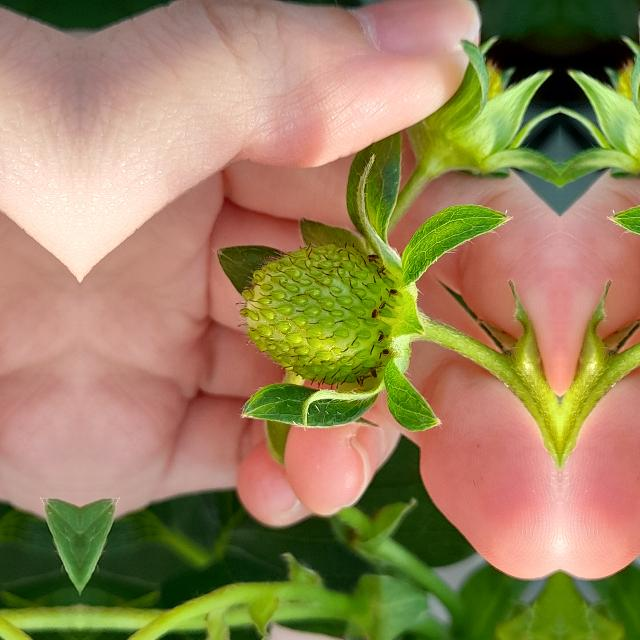Health_25: (234, 240, 396, 388)
